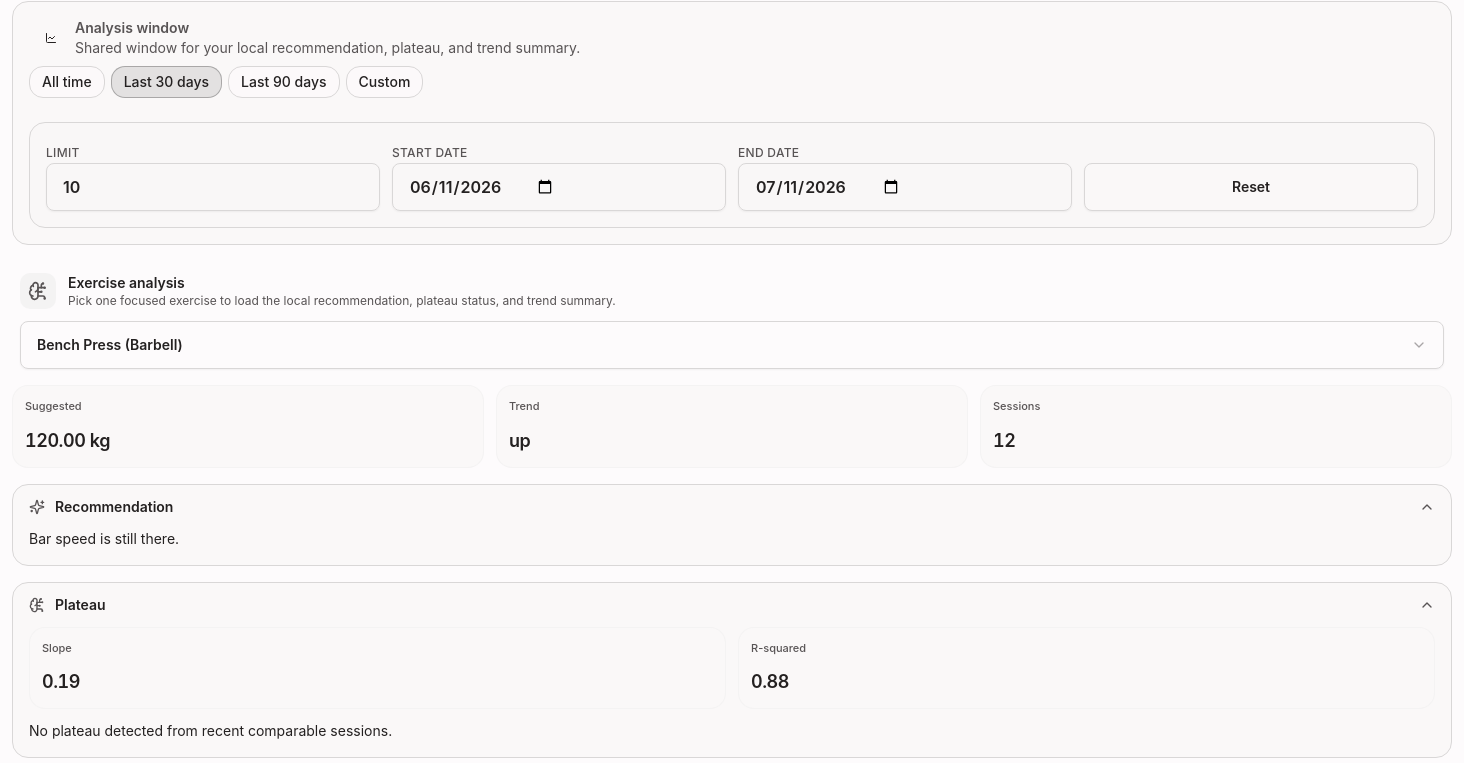
Test: AnalysisTab › applies trajectory presets to the analysis query
Click the button "Last 90 days".
click(284, 82)  # box top-left (228, 66), bottom-right (340, 98)
(page scrolled)
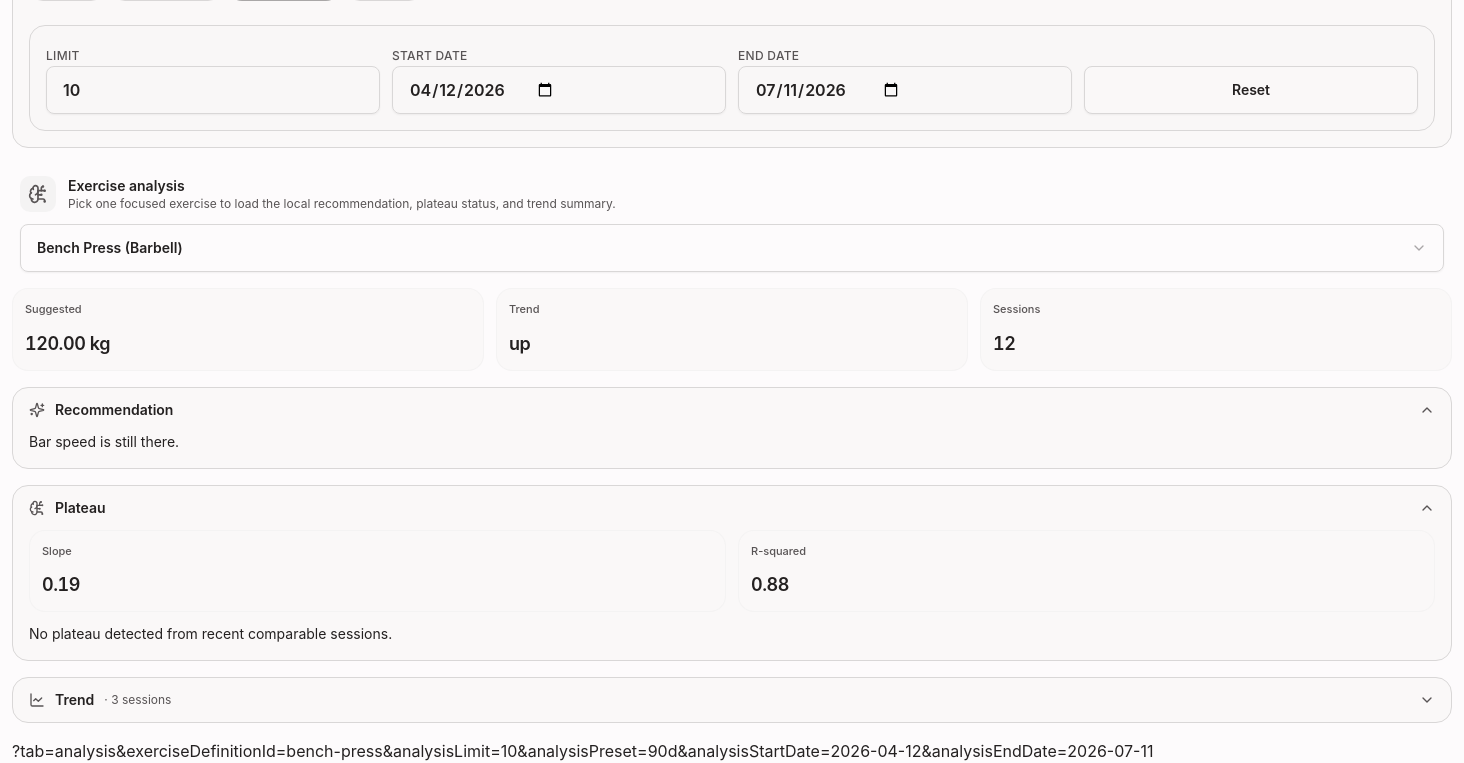
Expected: the text with test id "location-search" shows "analysisLimit=10", top-left (12, 741), bottom-right (1153, 761)
Expected: the text with test id "location-search" shows "analysisStartDate=2026-04-12", top-left (12, 741), bottom-right (1153, 761)
Expected: the text with test id "location-search" shows "analysisEndDate=2026-07-11", top-left (12, 741), bottom-right (1153, 761)
